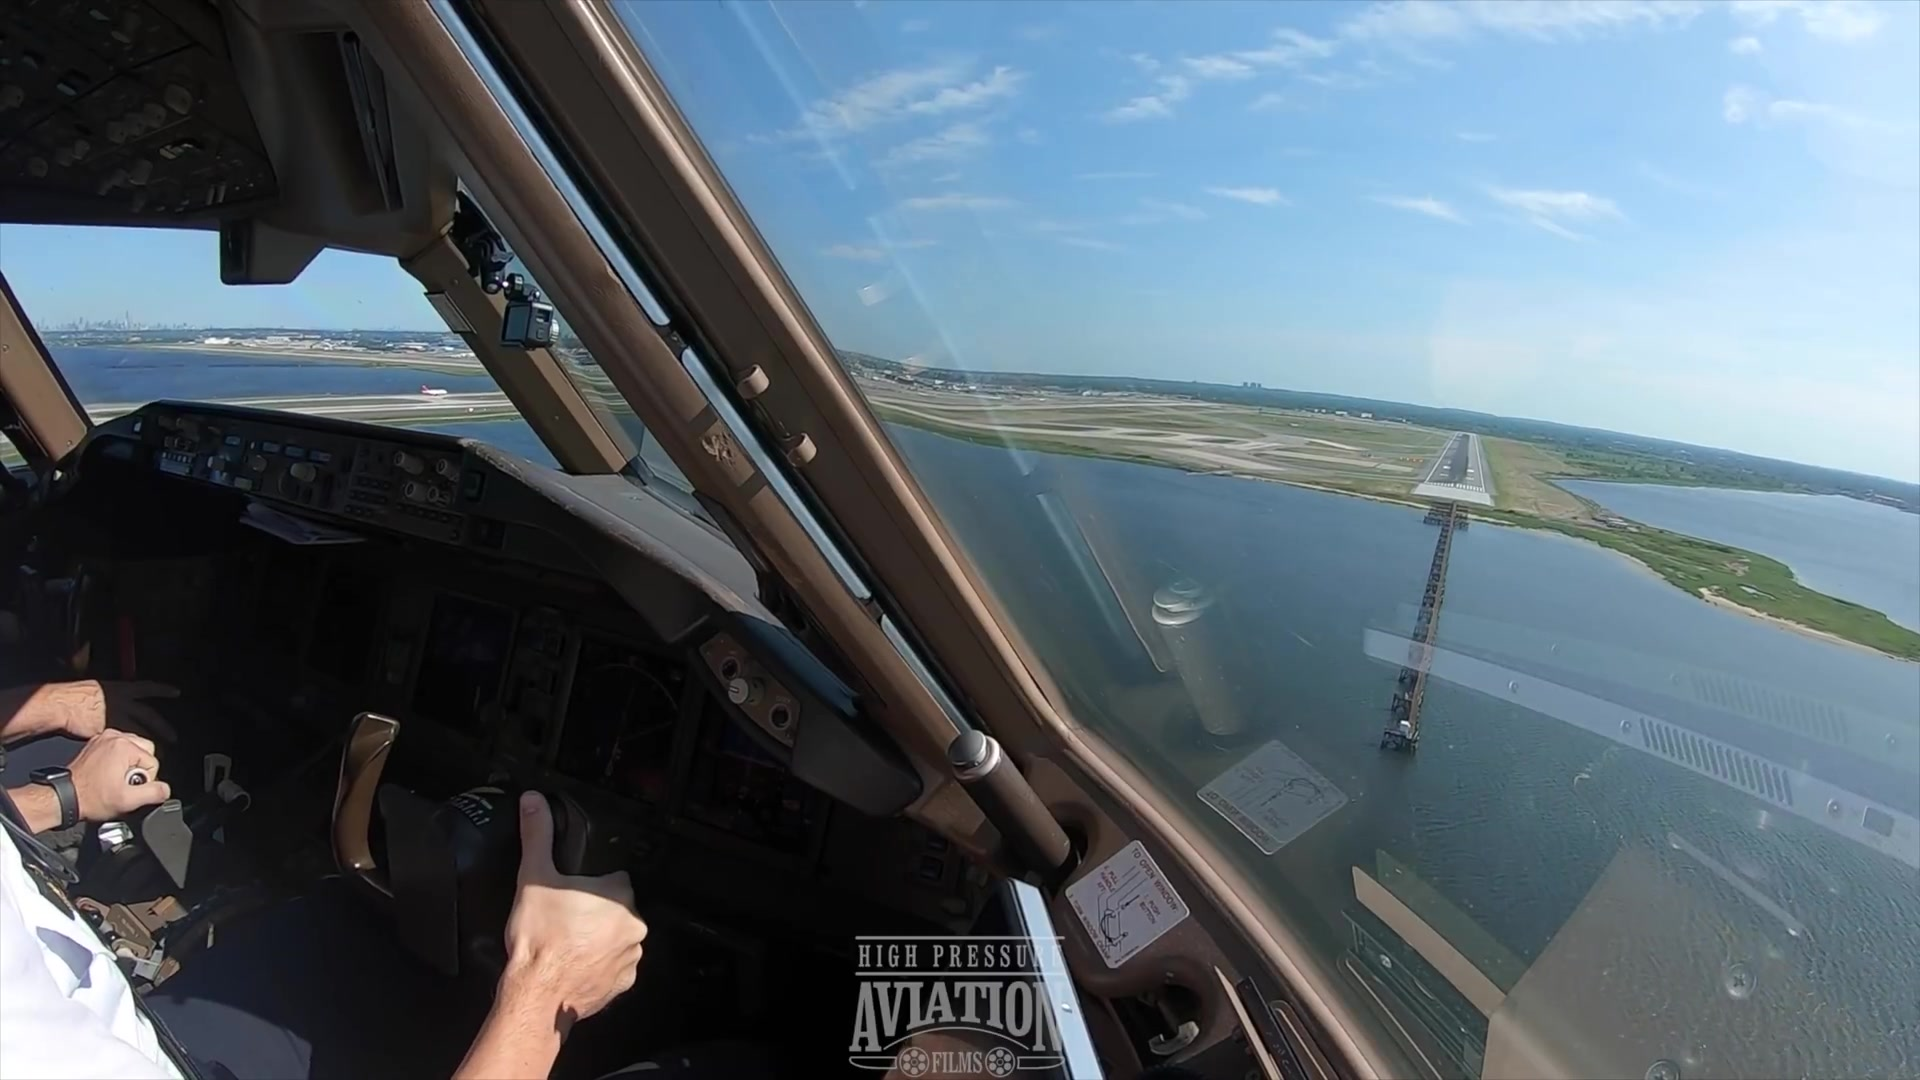entrance: (1424, 479, 1484, 493)
runway: (1418, 431, 1493, 495)
